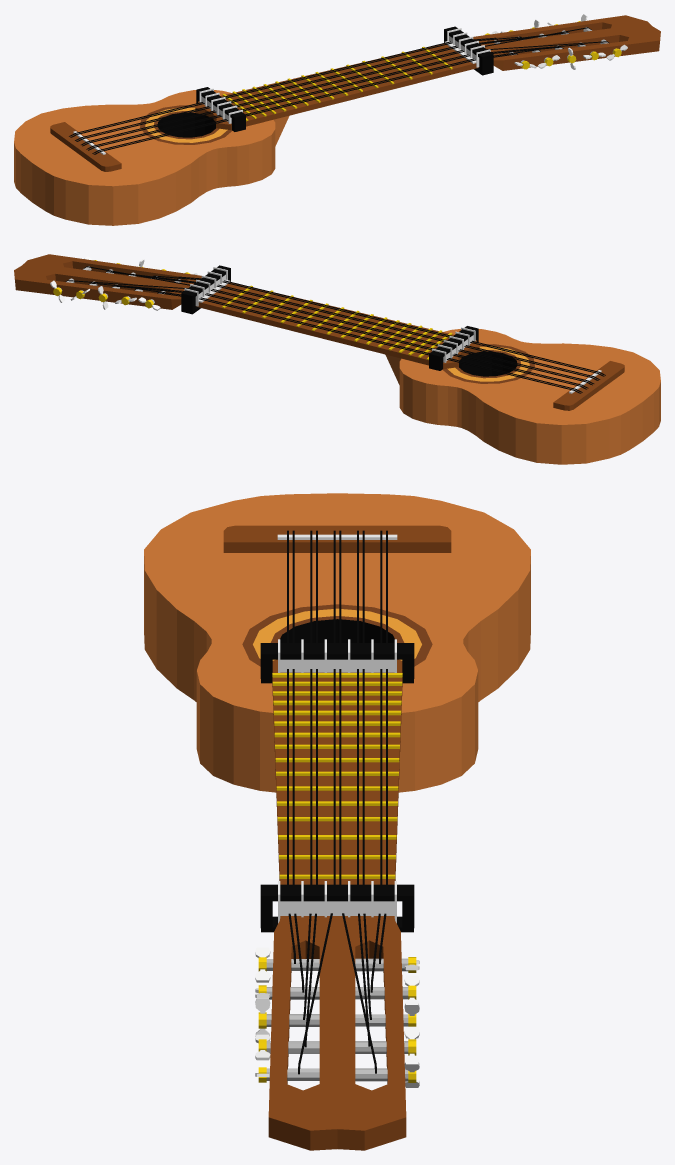
The model's file is Charango.fbx.
3 views of the same model, one above another, from view 1: azimuth 30°, elevation 25°; view 2: azimuth 150°, elevation 25°; view 3: azimuth 270°, elevation 25° (orthographic). The views are drawn at different scales.
Parts seen in each view (by area): view 1: Charango, Instanciador_Estructura, Marcador_Estructura; view 2: Charango, Instanciador_Estructura, Marcador_Estructura; view 3: Charango, Instanciador_Estructura, Marcador_Estructura.
Part boxes in pixels (x1=…): Charango: x1=14, y1=14, x2=660, y2=225; Instanciador_Estructura: x1=444, y1=26, x2=493, y2=75; Marcador_Estructura: x1=196, y1=87, x2=245, y2=131; Charango: x1=14, y1=254, x2=660, y2=464; Instanciador_Estructura: x1=181, y1=265, x2=230, y2=314; Marcador_Estructura: x1=429, y1=326, x2=478, y2=370; Charango: x1=144, y1=493, x2=530, y2=1150; Instanciador_Estructura: x1=260, y1=881, x2=414, y2=932; Marcador_Estructura: x1=260, y1=639, x2=414, y2=683.
Size of the model in its own units: 123 by 10.5 by 33.17.
